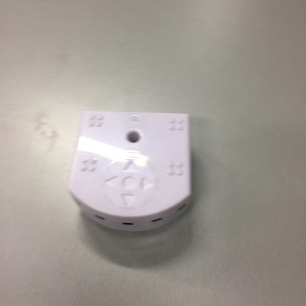thymio: (67, 105, 202, 239)
